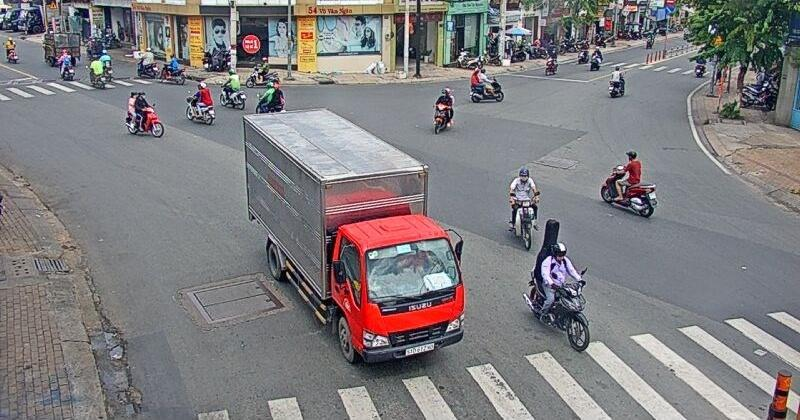xe may: (521, 241, 589, 351), (600, 150, 657, 218), (508, 166, 539, 250), (124, 91, 164, 138), (185, 82, 215, 125), (470, 66, 504, 102), (218, 68, 246, 109), (432, 87, 454, 135), (607, 65, 625, 98)
xe tai: (244, 107, 464, 366)
